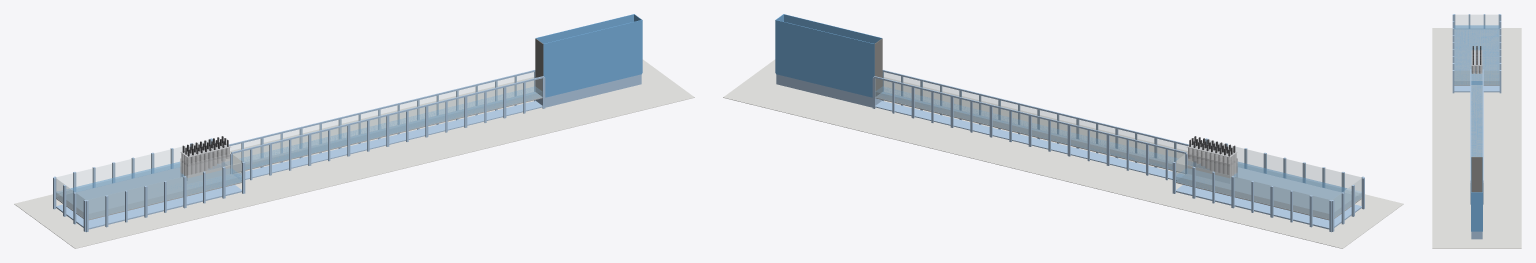
The model's file is tank_model.glb.
3 views of the same model, side by side, from view 1: azimuth 30°, elevation 25°; view 2: azimuth 150°, elevation 25°; view 3: azimuth 270°, elevation 25° (orthographic). The views are drawn at different scales.
Visible parts, largest first — view 1: lab floor, reservoir right wall, channel right wall (glass), water in the head, head floor, water in the channel, channel left wall (glass), head right wall (glass), channel stand (approx.), channel floor, head left wall (glass), head under-frame (approx.) (+7 smaller); view 2: lab floor, reservoir left wall, channel left wall (glass), water in the head, head floor, channel right wall (glass), water in the channel, head left wall (glass), channel stand (approx.), channel floor, head right wall (glass), head under-frame (approx.) (+7 smaller); view 3: lab floor, water in the head, head floor, water in the channel, channel floor, head back wall (glass), reservoir far wall, reservoir gate (closed: a reflecting wall), head under-frame (approx.), head front wall right of the mouth (glass), head front wall left of the mouth (glass), channel right top rail (frame, approx.) (+4 smaller).
Part boxes in pixels (x1,y1,x2,y2): lab floor: (14,59,694,248); reservoir right wall: (543,20,641,96); channel right wall (glass): (233,79,542,169); water in the head: (56,161,241,218); head floor: (56,164,241,220); water in the channel: (224,86,542,169); channel left wall (glass): (230,72,534,157); head right wall (glass): (88,162,241,218); channel stand (approx.): (234,101,542,180); channel floor: (226,92,542,173); head left wall (glass): (56,140,211,191); head under-frame (approx.): (56,185,241,229); lab floor: (723,59,1403,248); reservoir left wall: (776,20,874,96); channel left wall (glass): (875,79,1184,169); water in the head: (1176,161,1361,218); head floor: (1176,164,1361,220); channel right wall (glass): (883,72,1187,157); water in the channel: (875,87,1192,169); head left wall (glass): (1176,162,1329,218); channel stand (approx.): (875,101,1183,180); channel floor: (875,92,1191,173); head right wall (glass): (1206,140,1361,191); head under-frame (approx.): (1176,185,1361,229); lab floor: (1432,28,1521,248); water in the head: (1454,25,1499,84); head floor: (1454,29,1499,85); water in the channel: (1471,81,1482,156); channel floor: (1471,85,1482,156); head back wall (glass): (1454,15,1499,28); reservoir far wall: (1471,192,1482,231); reservoir gate (closed: a reflecting wall): (1471,157,1482,192); head under-frame (approx.): (1454,85,1499,92); head front wall right of the mouth (glass): (1454,71,1469,84); head front wall left of the mouth (glass): (1484,71,1499,84); channel right top rail (frame, approx.): (1470,69,1471,181).
Bounding box in the file's own units: 35.28 × 3.52 × 6.04.
